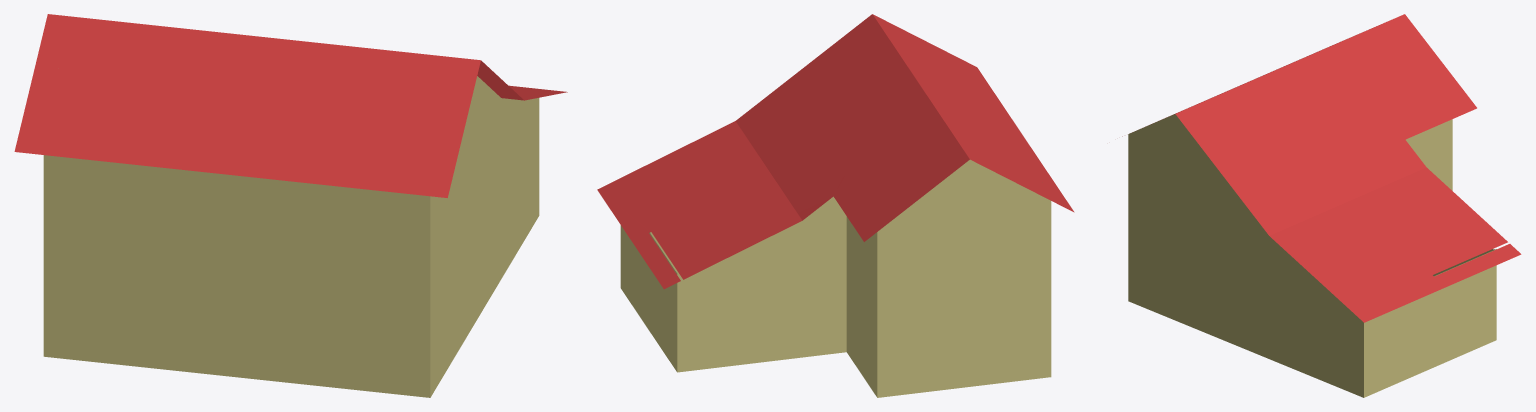
3 renders of one model, left to right at view 1: azimuth 30°, elevation 25°; view 2: azimuth 150°, elevation 25°; view 3: azimuth 270°, elevation 25°, orthographic. The views are drawn at different scales.
Bounding box in the file's own units: 27.77 × 23.71 × 13.57.
